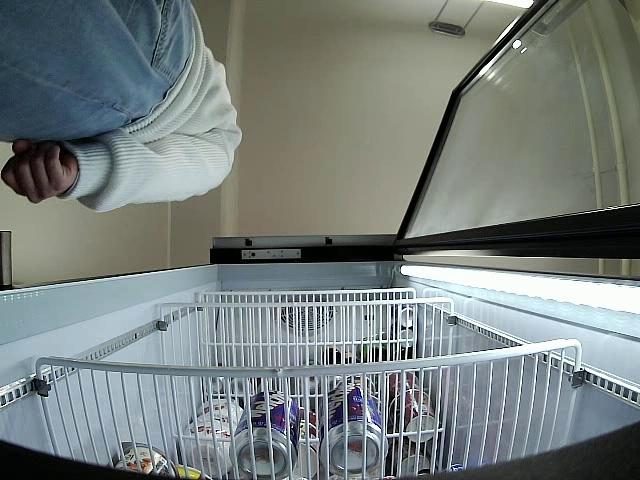00_hand: (0, 134, 78, 204)
